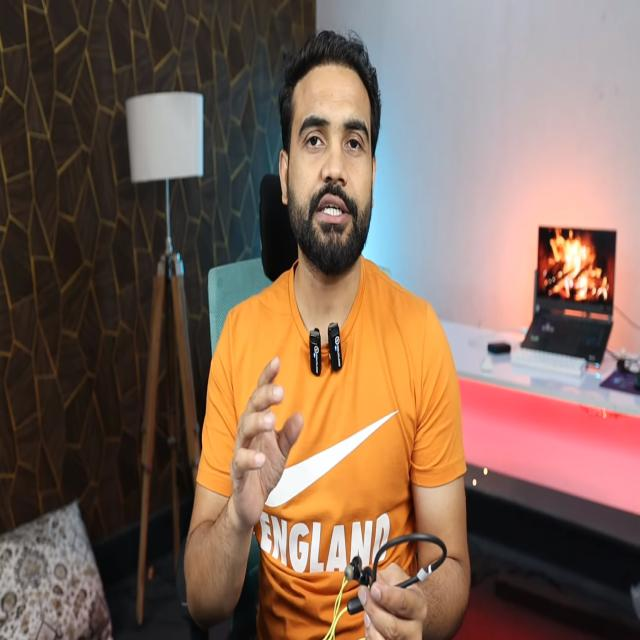Neckband: (324, 532, 447, 640)
